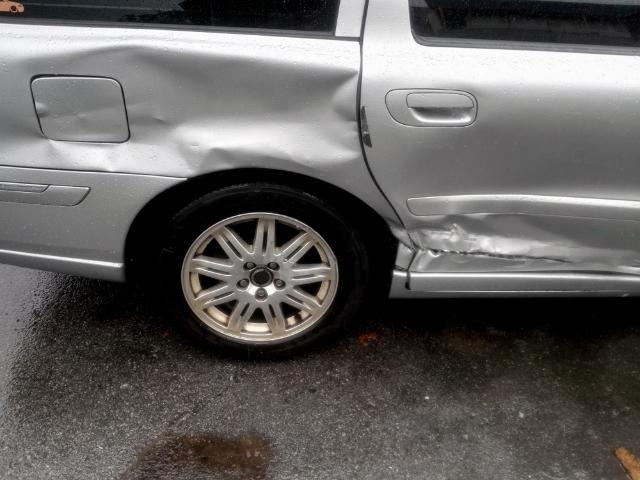dent: (4, 46, 359, 174), (404, 213, 640, 273)
